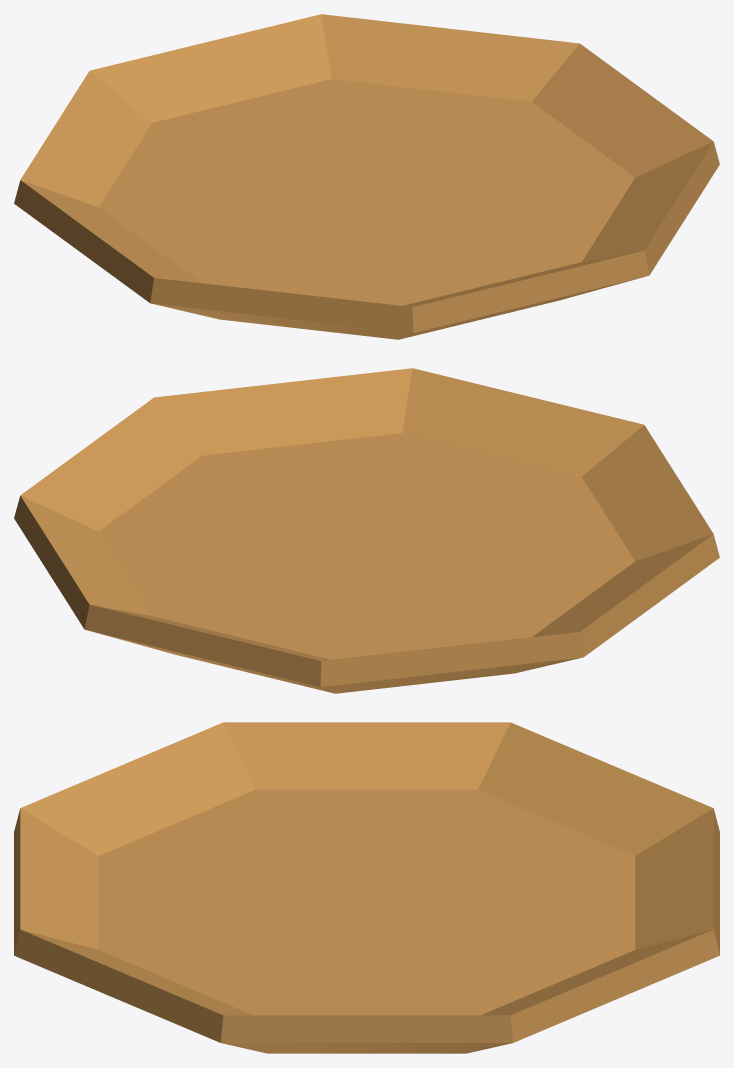
File: SM_Prop_Gold_Plate_01.glb
The picture shows the model from 3 angles, top to bottom: view 1: azimuth 30°, elevation 25°; view 2: azimuth 150°, elevation 25°; view 3: azimuth 270°, elevation 25°; orthographic projection. The views are drawn at different scales.
Parts seen in each view (by area): view 1: SM_Prop_Gold_Plate_01; view 2: SM_Prop_Gold_Plate_01; view 3: SM_Prop_Gold_Plate_01.
Boxes of the visible parts, left/top/right/bottom form: SM_Prop_Gold_Plate_01: left=14, top=14, right=719, bottom=339; SM_Prop_Gold_Plate_01: left=14, top=368, right=719, bottom=693; SM_Prop_Gold_Plate_01: left=14, top=722, right=719, bottom=1053.
Size of the model in its own units: 0.6024 by 0.0785 by 0.6024.
Materials: 1 (1 with a texture image).
